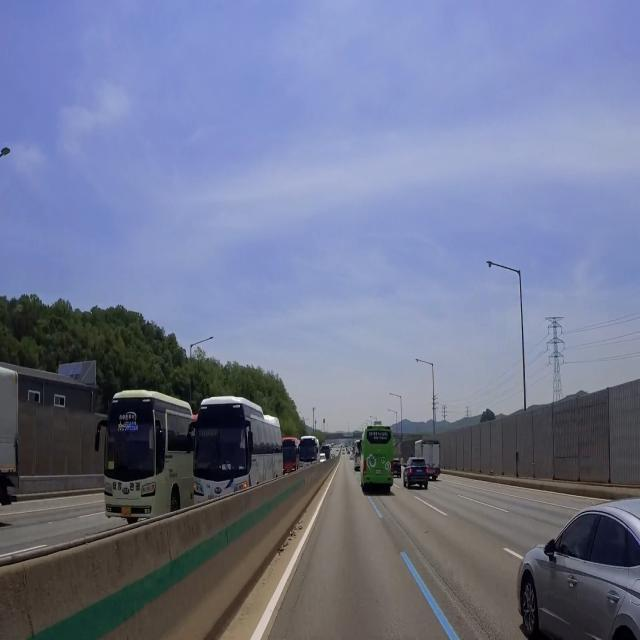car: (114, 506, 134, 521), (374, 466, 385, 482), (414, 466, 426, 477)
